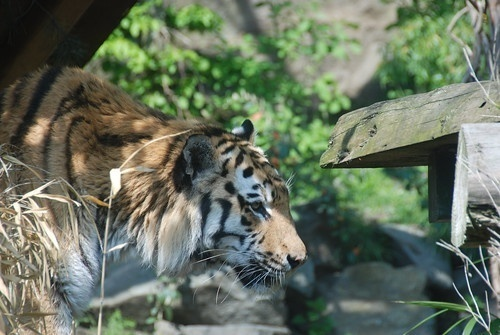tigre: (1, 64, 310, 311)
